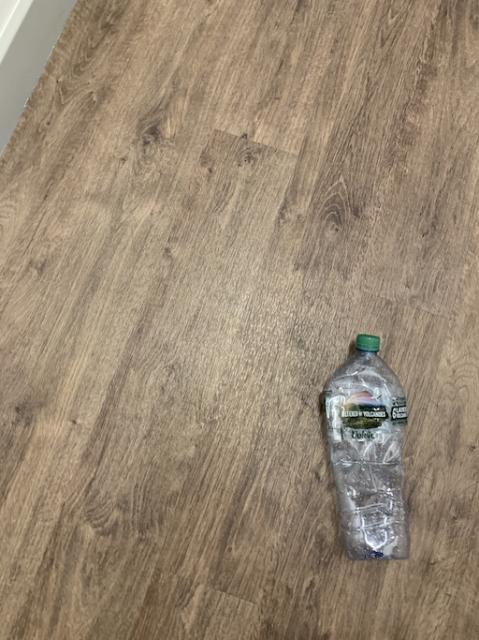plastic: (323, 334, 408, 558)
